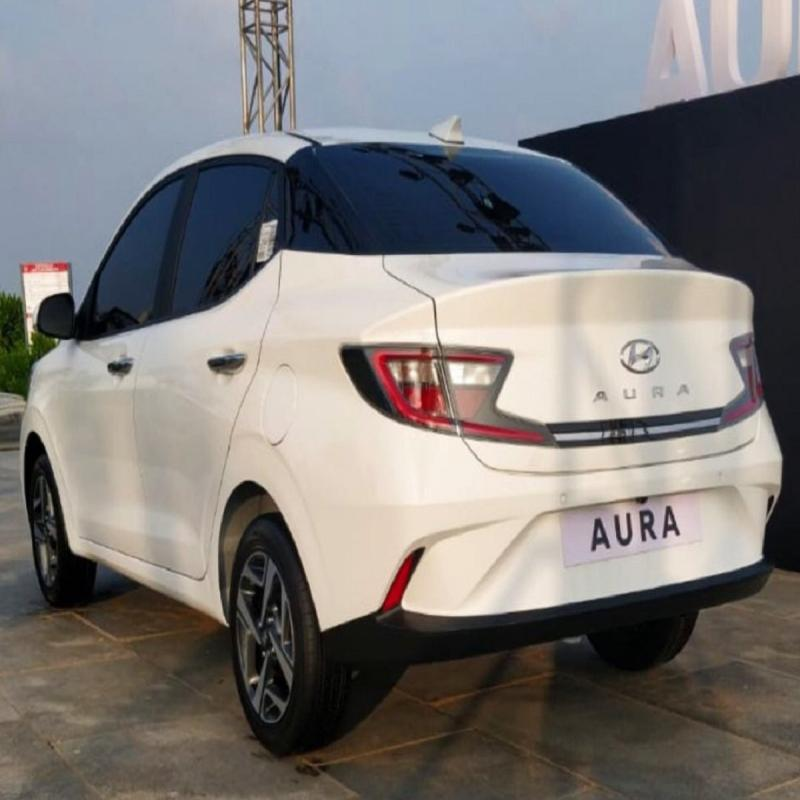car: (7, 119, 800, 728)
